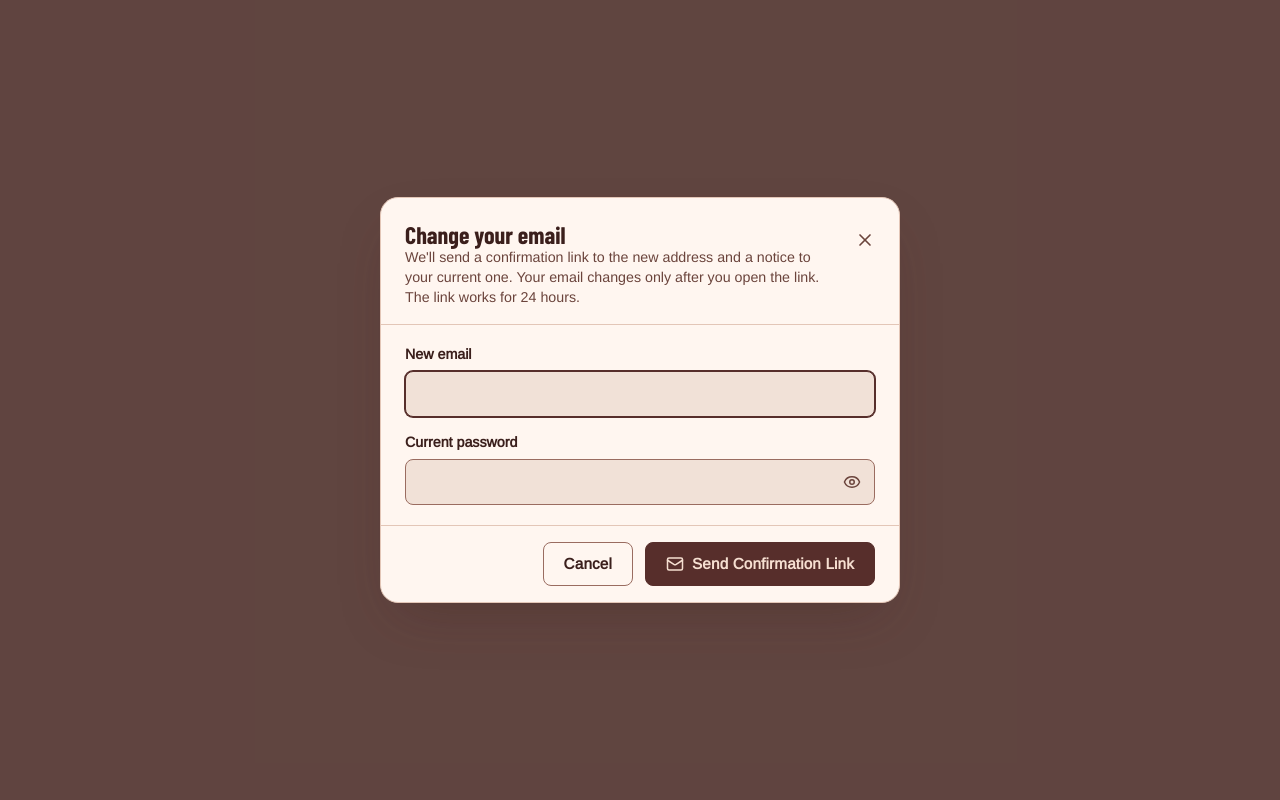
Test: P2 checks before sending (OR-3) › shows both required messages at once, sends nothing and puts the cursor in New email
Click the button "Send Confirmation Link".
click(760, 564)  # box [645,542,875,586]
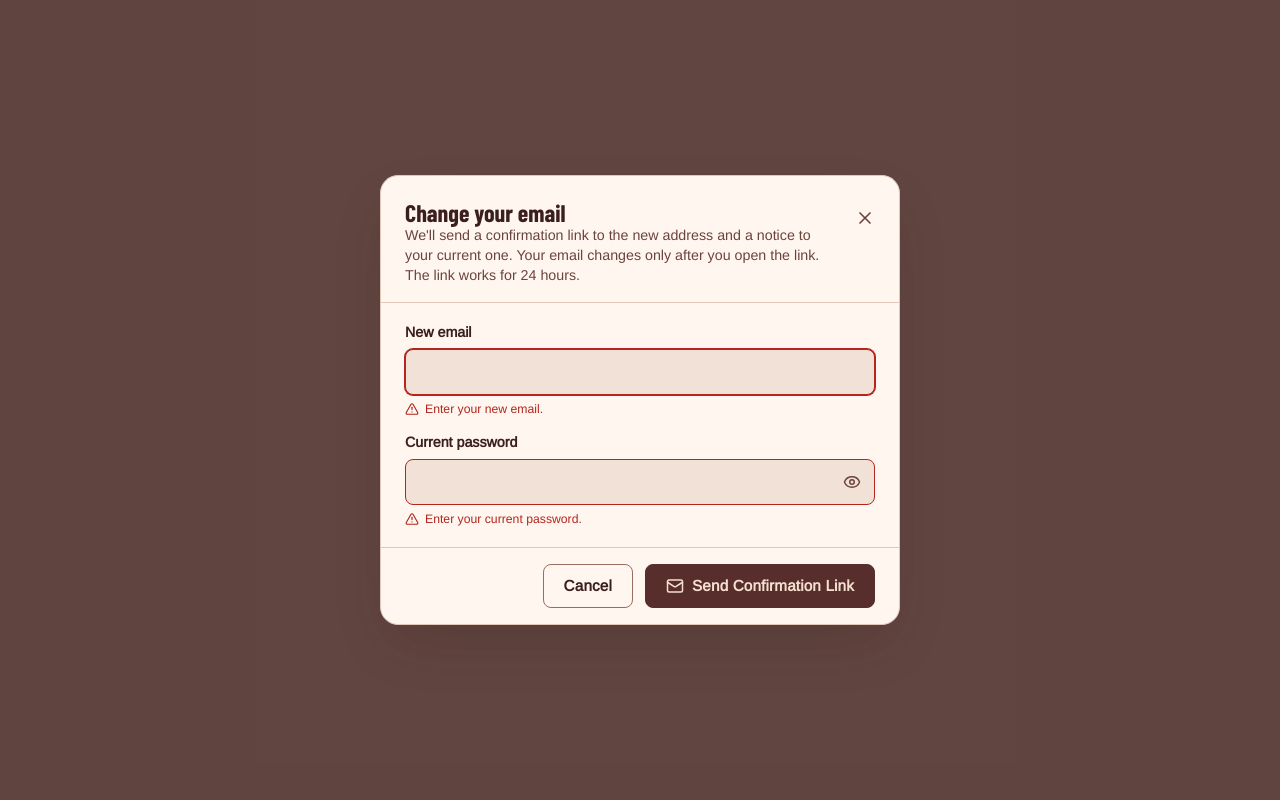
Check: the text "Enter your new email." is shown, box [405,402,543,416]
Check: the text "Enter your current password." is shown, box [405,512,582,526]
